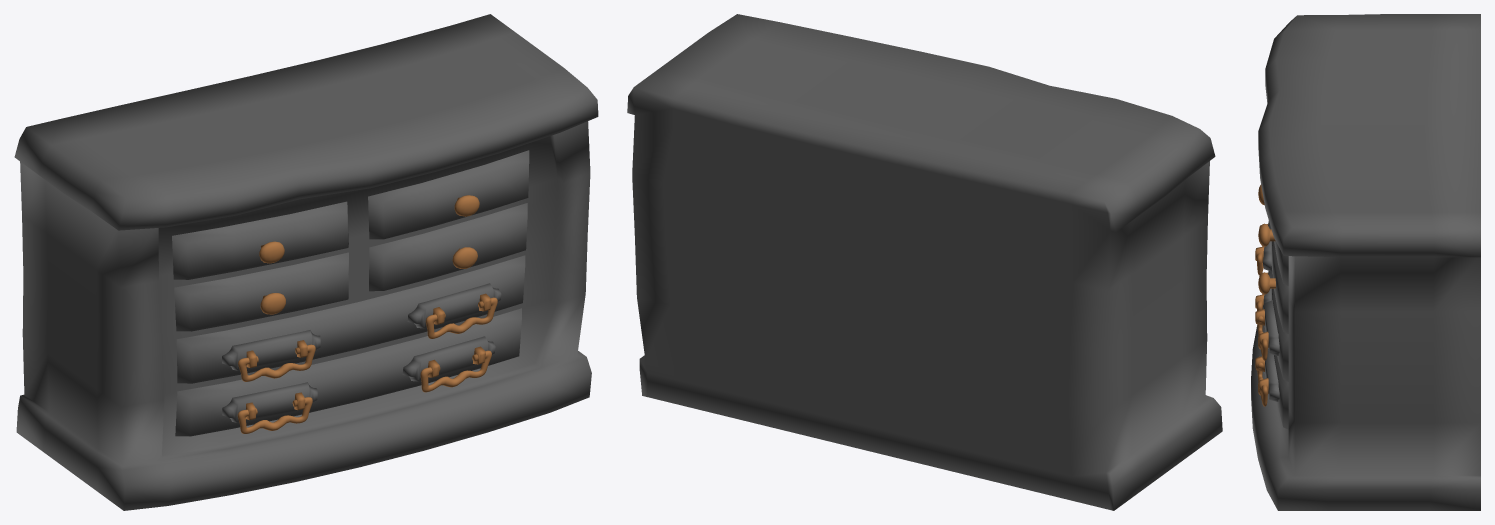
The model's file is SM_Drawer_V2.fbx.
3 renders of one model, left to right at view 1: azimuth 30°, elevation 25°; view 2: azimuth 150°, elevation 25°; view 3: azimuth 270°, elevation 25°, orthographic. The views are drawn at different scales.
Parts seen in each view (by area): view 1: SM_Drawer; view 2: SM_Drawer; view 3: SM_Drawer.
Part boxes in pixels (<box>): SM_Drawer: <box>14,14,598,510</box>; SM_Drawer: <box>627,14,1222,510</box>; SM_Drawer: <box>1251,14,1480,510</box>.
Bounding box in the file's own units: 145 × 87.25 × 63.44.
